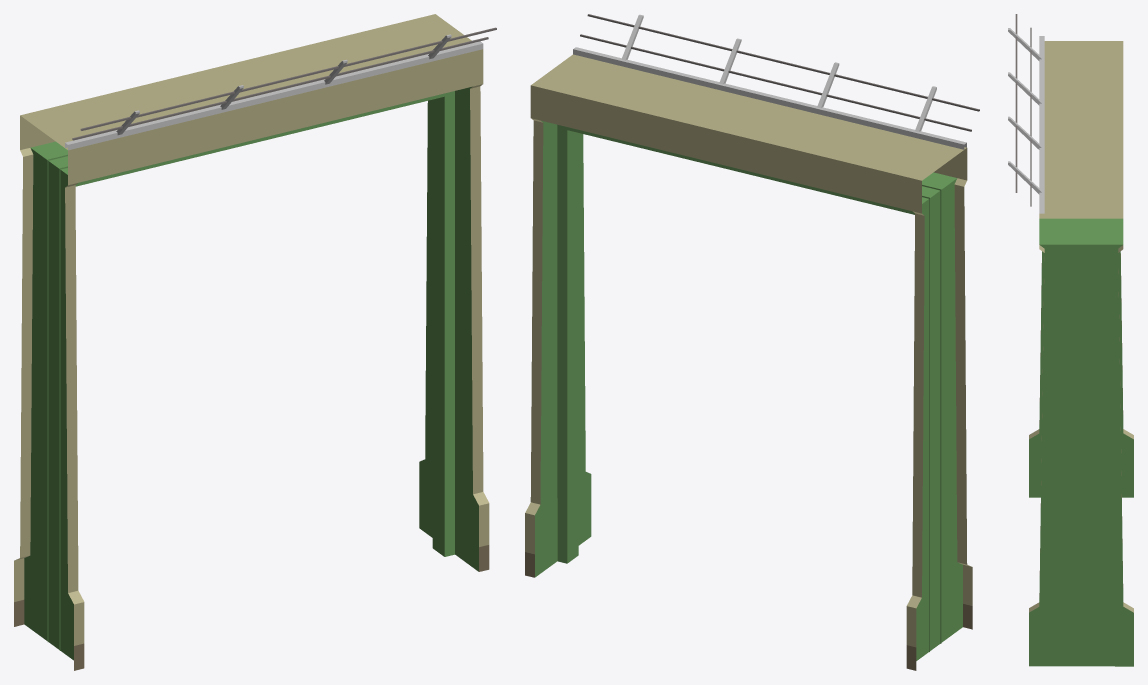
Rendered from SM_Wall_Big_DoorFrame_A_800.FBX.
3 views of the same model, side by side, from view 1: azimuth 30°, elevation 25°; view 2: azimuth 150°, elevation 25°; view 3: azimuth 270°, elevation 25° (orthographic). The views are drawn at different scales.
Visible parts, largest first — view 1: SM_Wall_Big_DoorFrame_A_800; view 2: SM_Wall_Big_DoorFrame_A_800; view 3: SM_Wall_Big_DoorFrame_A_800.
Part boxes in pixels (left/top/right/bottom): SM_Wall_Big_DoorFrame_A_800: left=14, top=14, right=496, bottom=670; SM_Wall_Big_DoorFrame_A_800: left=525, top=14, right=979, bottom=670; SM_Wall_Big_DoorFrame_A_800: left=1008, top=14, right=1133, bottom=666.
Bounding box in the file's own units: 800 × 240 × 1022.
